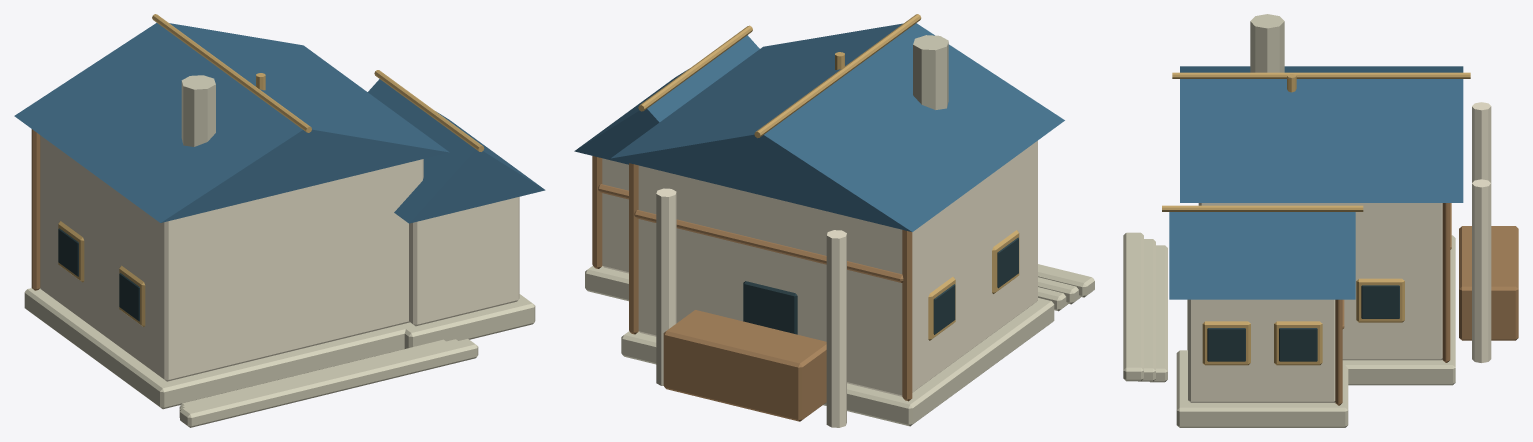
File: level_19.glb
3 views of the same model, side by side, from view 1: azimuth 30°, elevation 25°; view 2: azimuth 150°, elevation 25°; view 3: azimuth 270°, elevation 25° (orthographic). The views are drawn at different scales.
Visible parts, largest first — view 1: workshop — level 19; view 2: workshop — level 19; view 3: workshop — level 19.
Boxes of the visible parts, <box> form: workshop — level 19: <box>14,14,545,427</box>; workshop — level 19: <box>574,14,1094,427</box>; workshop — level 19: <box>1123,14,1518,427</box>.
Size of the model in its own units: 5.71 by 4 by 5.3.
